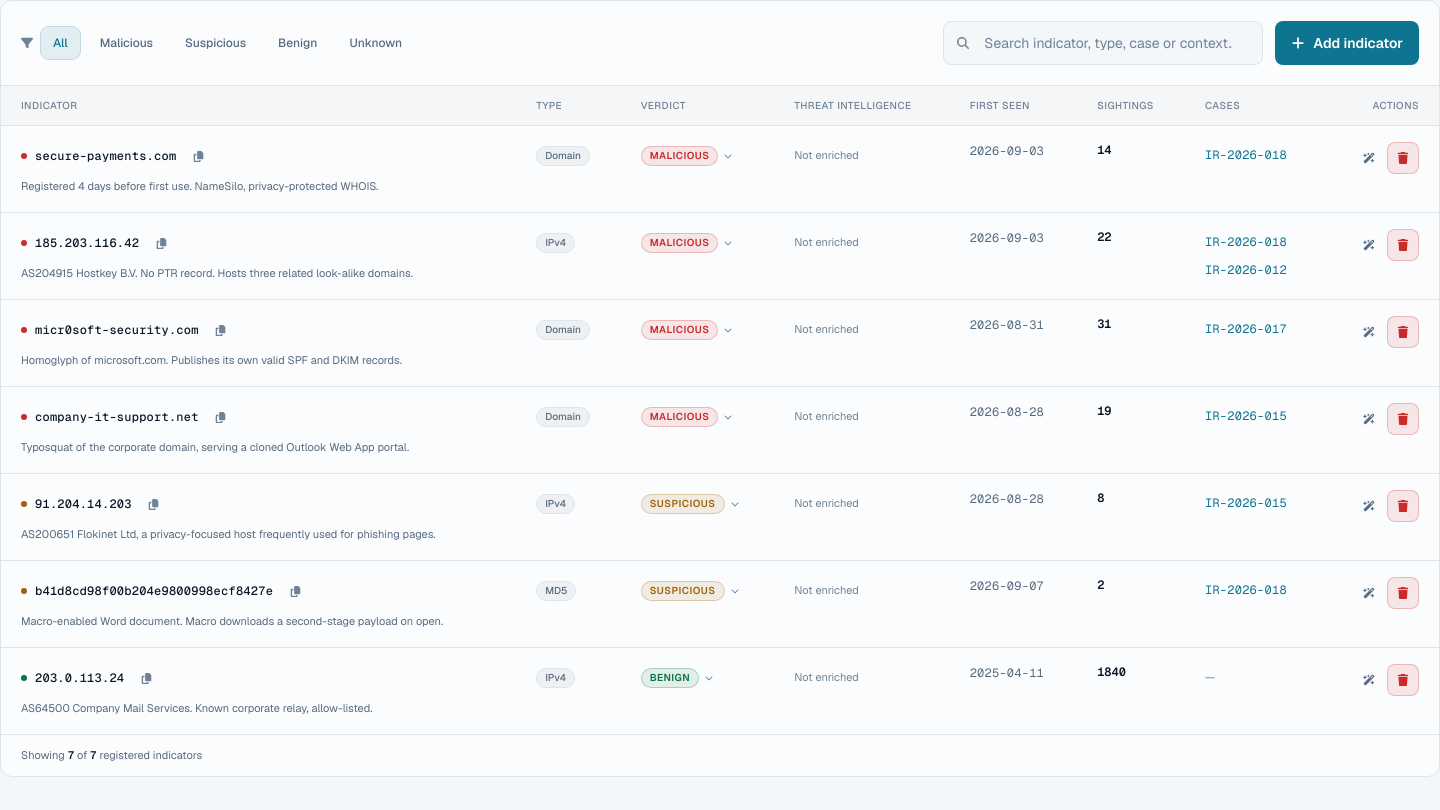
it: indicator registry › filters by verdict
Click the button "Malicious" at (126, 43), box [88,27,165,59]
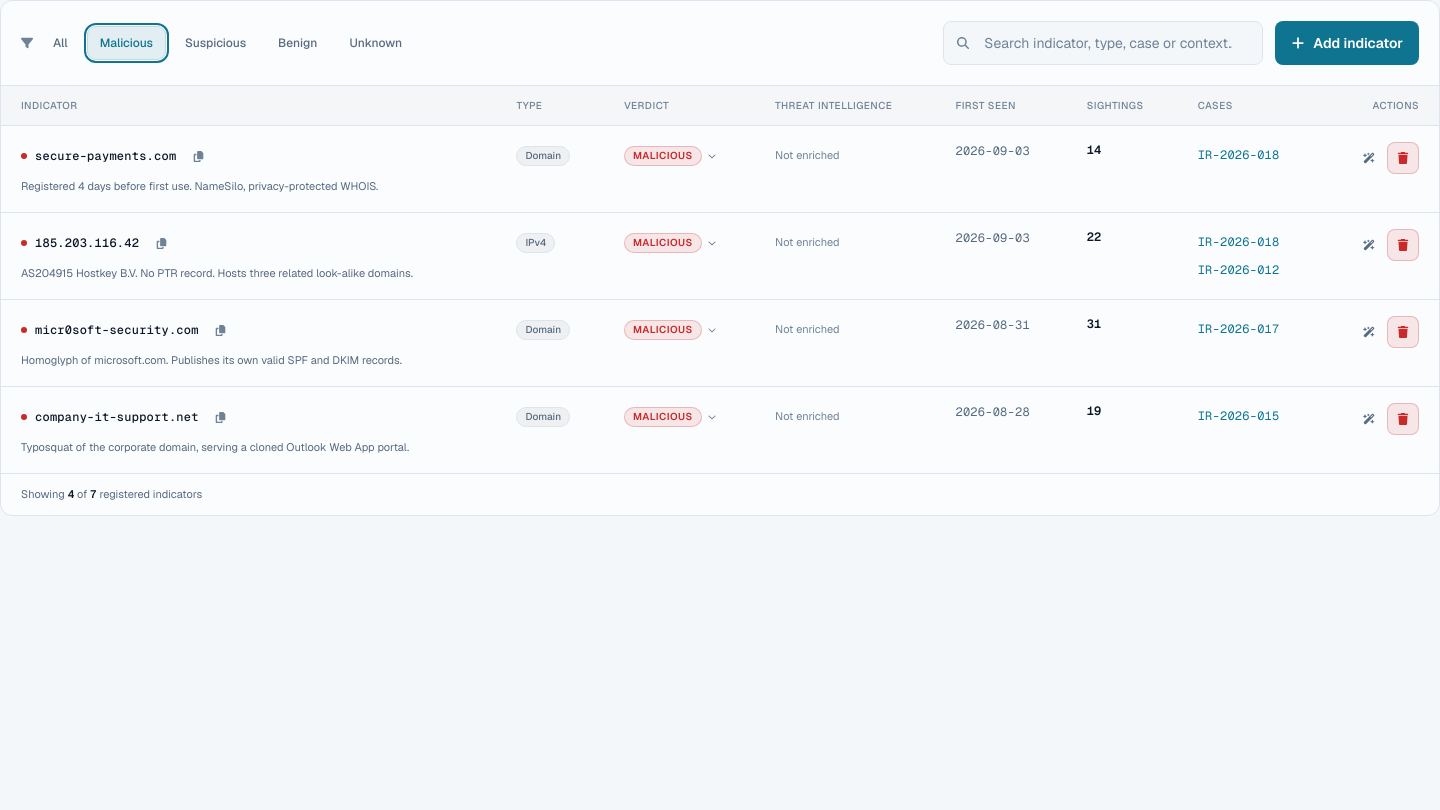
Check: the text "203.0.113.24" is gone
